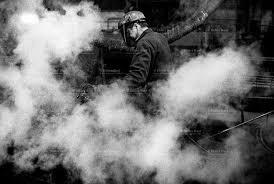helmet: (116, 7, 151, 33)
person with partial safety: (102, 7, 181, 119)
